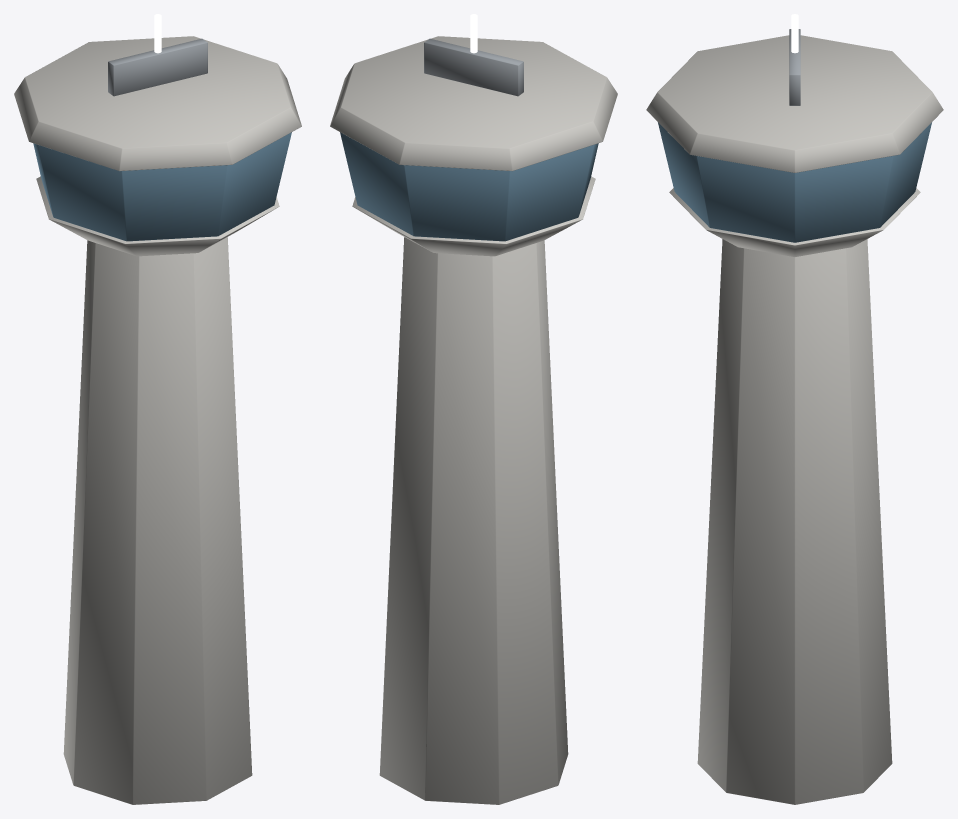
Rendered from SM_Son_ControlTower.fbx.
3 renders of one model, left to right at view 1: azimuth 30°, elevation 25°; view 2: azimuth 150°, elevation 25°; view 3: azimuth 270°, elevation 25°, orthographic.
Visible parts, largest first — view 1: SM_Son_ControlTower; view 2: SM_Son_ControlTower; view 3: SM_Son_ControlTower.
Boxes of the visible parts, <box> form: SM_Son_ControlTower: <box>14,14,301,804</box>; SM_Son_ControlTower: <box>330,14,617,804</box>; SM_Son_ControlTower: <box>646,14,943,804</box>.
Bounding box in the file's own units: 10.37 × 10.37 × 28.8.
